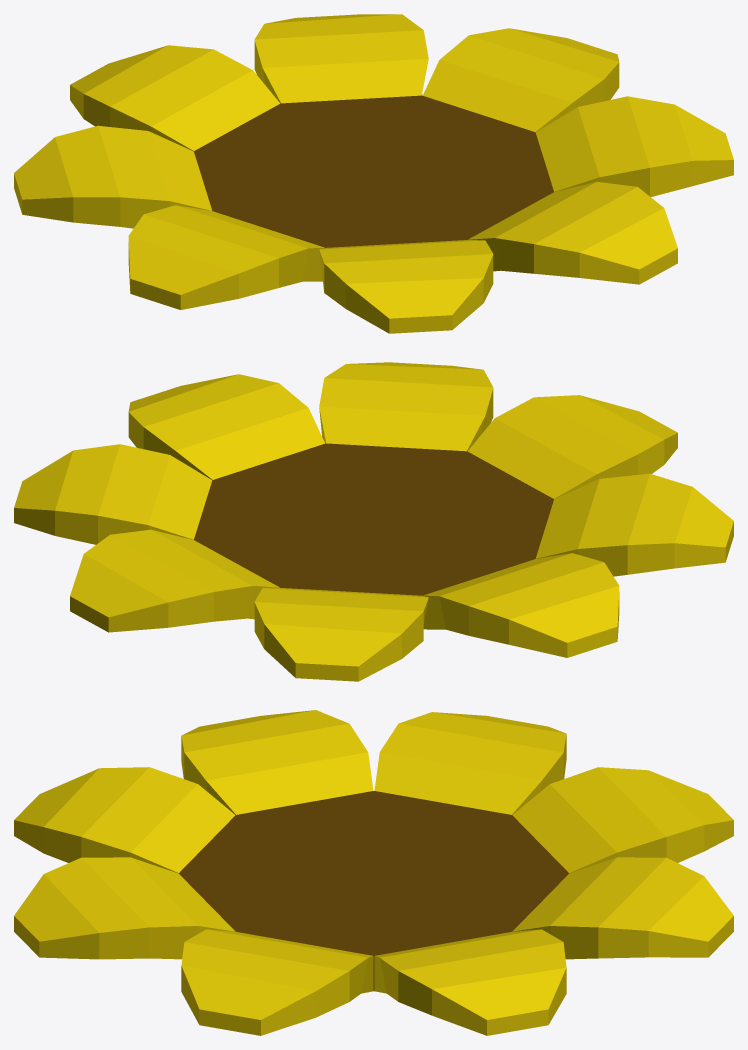
The model's file is FlowerSeat.fbx.
3 renders of one model, top to bottom at view 1: azimuth 30°, elevation 25°; view 2: azimuth 150°, elevation 25°; view 3: azimuth 270°, elevation 25°, orthographic. The views are drawn at different scales.
Parts seen in each view (by area): view 1: Flower; view 2: Flower; view 3: Flower.
Part boxes in pixels (x1=…): Flower: x1=14, y1=14, x2=733, y2=333; Flower: x1=14, y1=362, x2=733, y2=681; Flower: x1=14, y1=710, x2=733, y2=1035.
Size of the model in its own units: 369 by 34.75 by 369.
